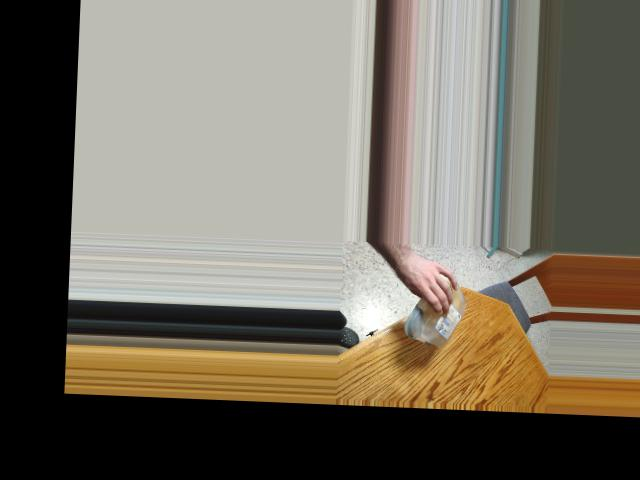cheese: (421, 283, 464, 342)
